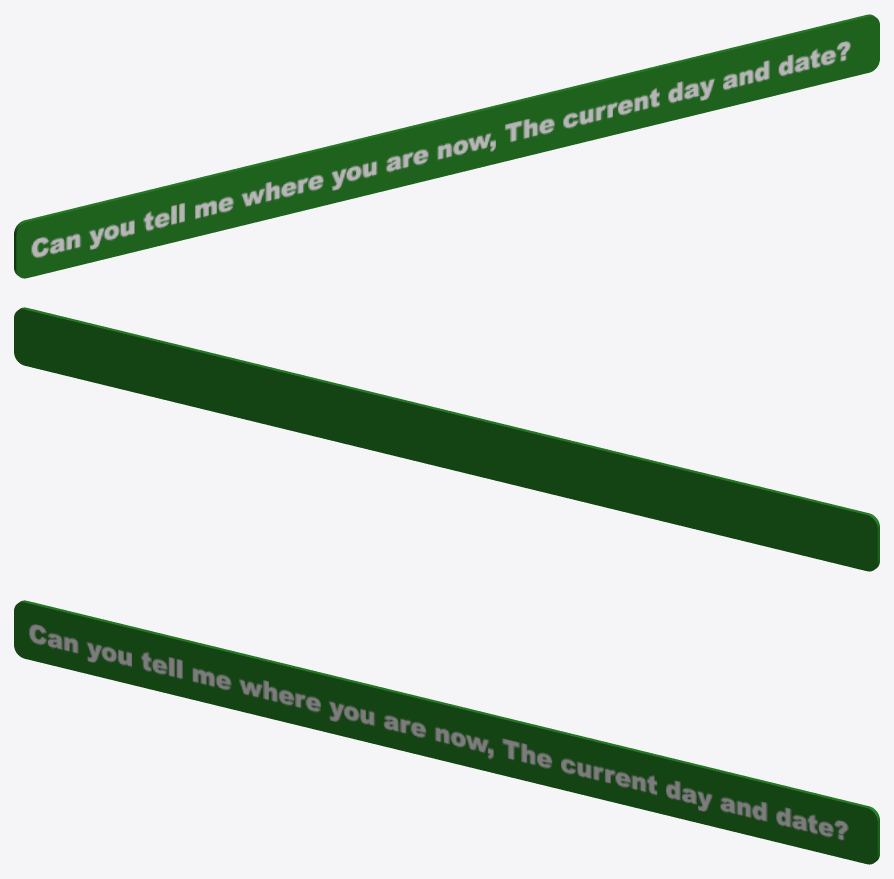
The model's file is Can you tell me where you are now, The current day and date.FBX.
3 views of the same model, one above another, from view 1: azimuth 30°, elevation 25°; view 2: azimuth 150°, elevation 25°; view 3: azimuth 330°, elevation 25° (orthographic).
Visible parts, largest first — view 1: Rectangle026; view 2: Rectangle026; view 3: Rectangle026.
Part boxes in pixels (<box>): Rectangle026: <box>14,14,879,278</box>; Rectangle026: <box>14,307,879,571</box>; Rectangle026: <box>14,600,879,864</box>.
Bounding box in the file's own units: 105 × 6.51 × 0.5.
Materials: 1 (1 with a texture image).
